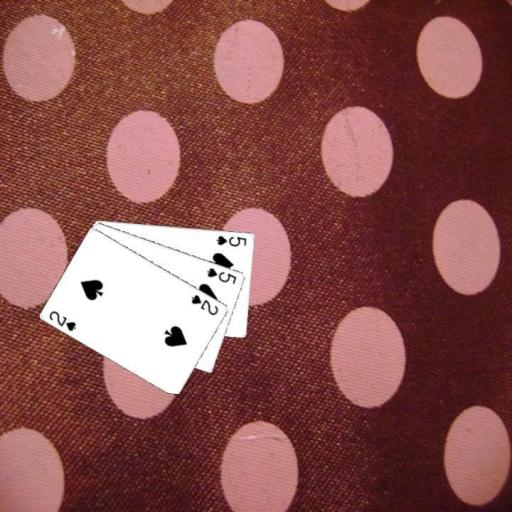2S: (46, 307, 78, 333), (188, 292, 220, 317)
5S: (204, 265, 238, 285), (214, 232, 249, 248)
